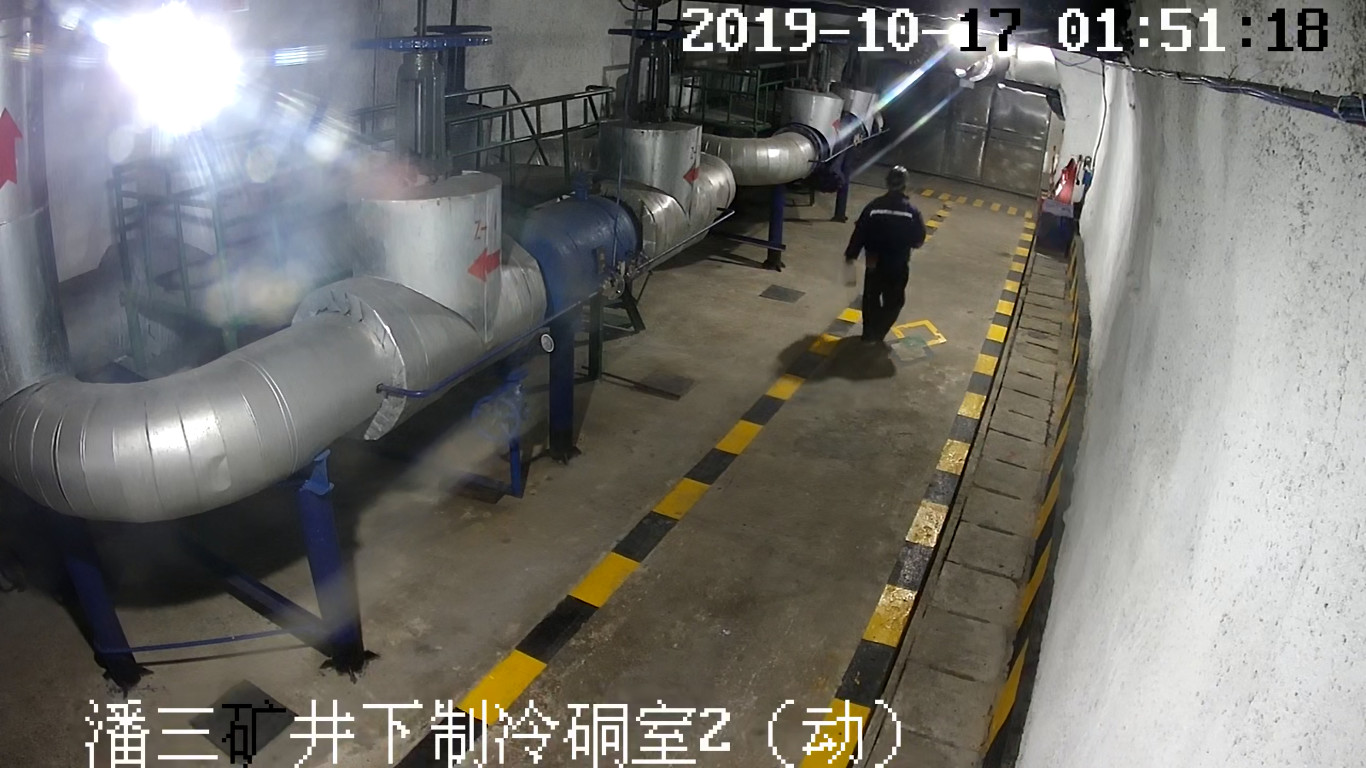helmet: (885, 164, 908, 191)
